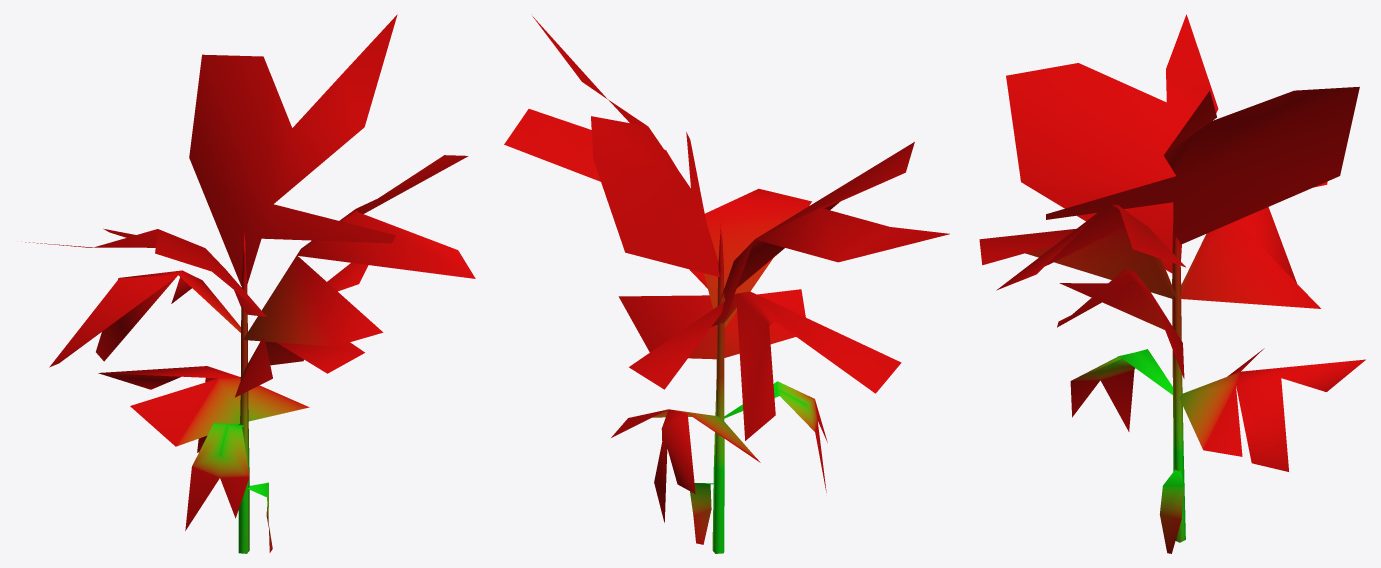
File: Cane Palm_LOD2_Var5_siBmK.fbx
The picture shows the model from 3 angles, left to right: view 1: azimuth 30°, elevation 25°; view 2: azimuth 150°, elevation 25°; view 3: azimuth 270°, elevation 25°; orthographic projection. The views are drawn at different scales.
Parts seen in each view (by area): view 1: _ac14_Var5_LOD2; view 2: _ac14_Var5_LOD2; view 3: _ac14_Var5_LOD2.
Part boxes in pixels (x1,y1,x2,y2): _ac14_Var5_LOD2: [21, 14, 475, 553]; _ac14_Var5_LOD2: [504, 14, 949, 553]; _ac14_Var5_LOD2: [979, 14, 1365, 553].
Bounding box in the file's own units: 16.64 × 18.07 × 11.69.
